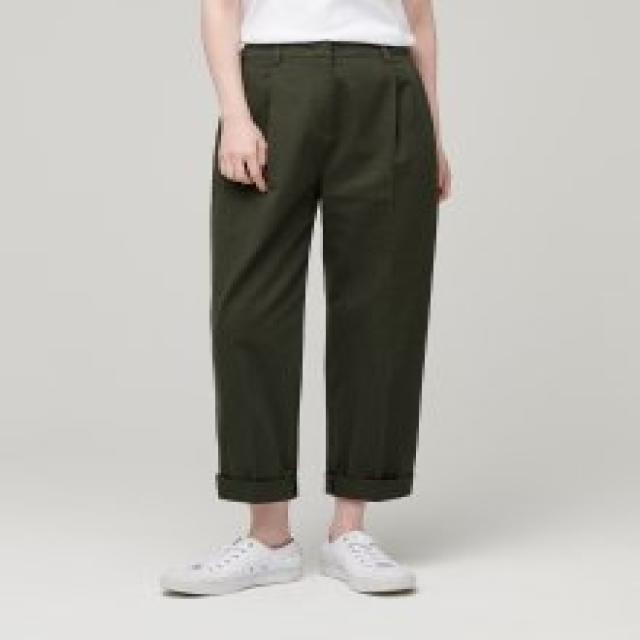long-pants: (210, 40, 441, 505)
